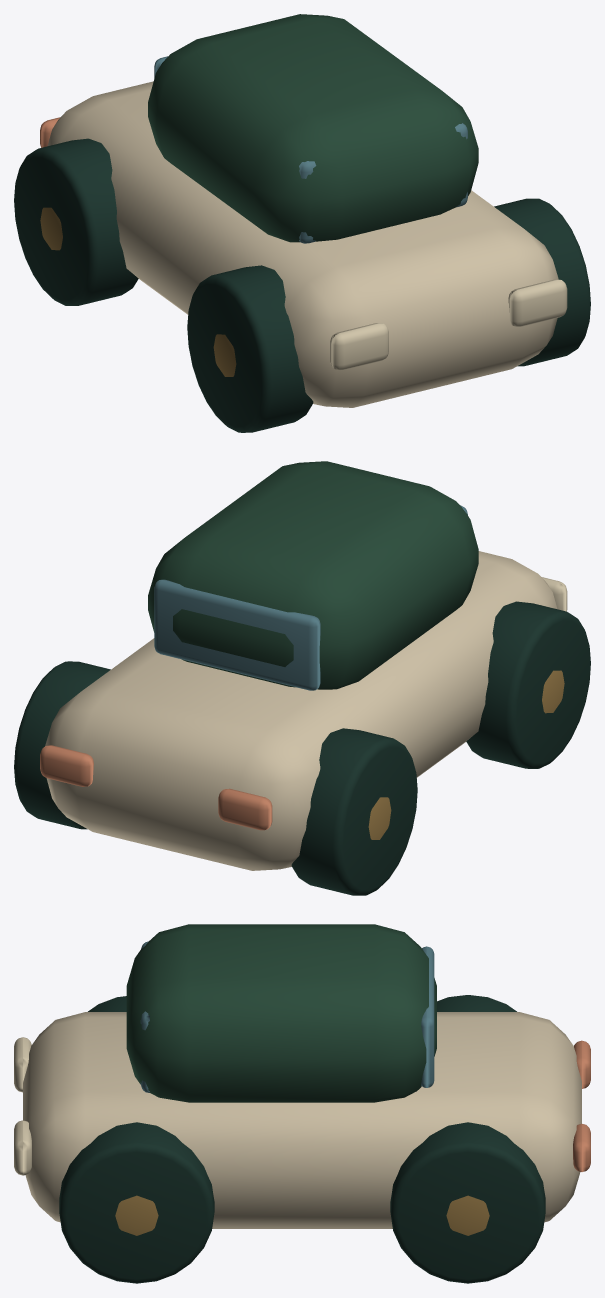
File: car.glb
3 renders of one model, top to bottom at view 1: azimuth 30°, elevation 25°; view 2: azimuth 150°, elevation 25°; view 3: azimuth 270°, elevation 25°, orthographic. The views are drawn at different scales.
Visible parts, largest first — view 1: ToyCar; view 2: ToyCar; view 3: ToyCar.
Boxes of the visible parts, bbox=[...] form: ToyCar: bbox=[14, 14, 590, 432]; ToyCar: bbox=[14, 461, 590, 895]; ToyCar: bbox=[14, 924, 590, 1283].
Bounding box in the file's own units: 0.7048 × 0.545 × 1.12.
